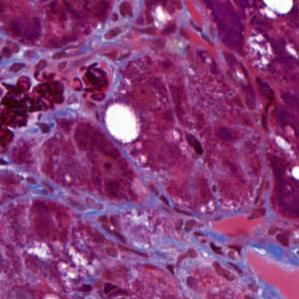inflammation: (178, 127, 209, 164), (70, 279, 102, 296), (98, 280, 123, 298)
